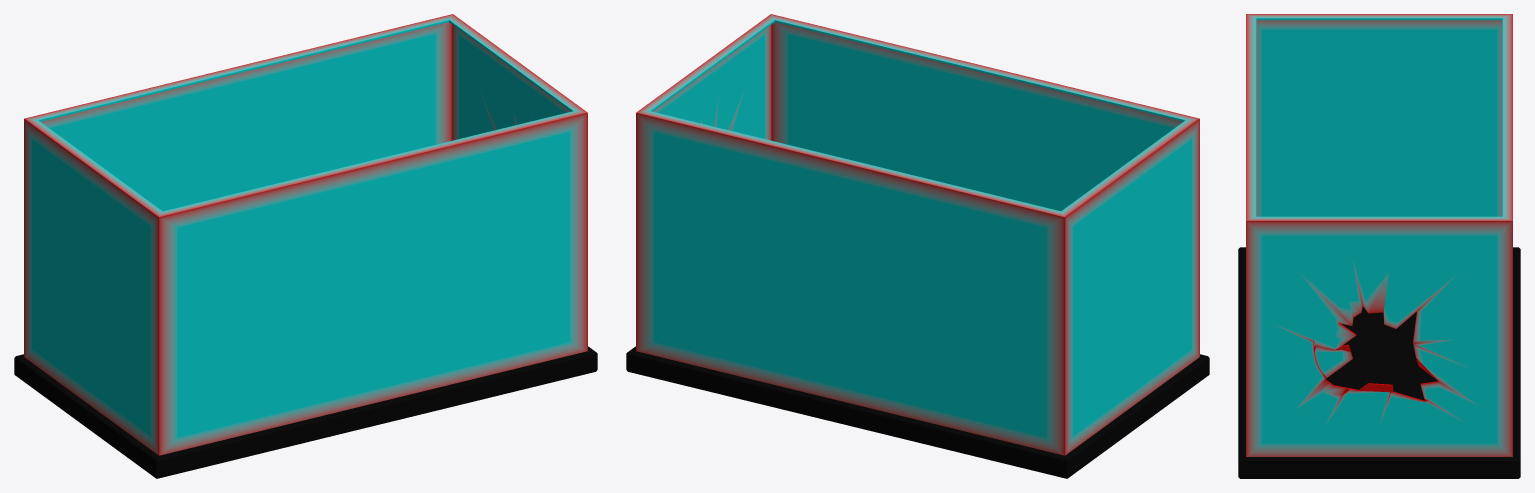
File: AquariumBroken.fbx
3 renders of one model, left to right at view 1: azimuth 30°, elevation 25°; view 2: azimuth 150°, elevation 25°; view 3: azimuth 270°, elevation 25°, orthographic.
Parts seen in each view (by area): view 1: Plane.042; view 2: Plane.042; view 3: Plane.042.
Part boxes in pixels (bbox=[...]): Plane.042: bbox=[14, 14, 597, 478]; Plane.042: bbox=[626, 14, 1209, 478]; Plane.042: bbox=[1238, 14, 1520, 478].
Bounding box in the file's own units: 5.37 × 2.99 × 3.
